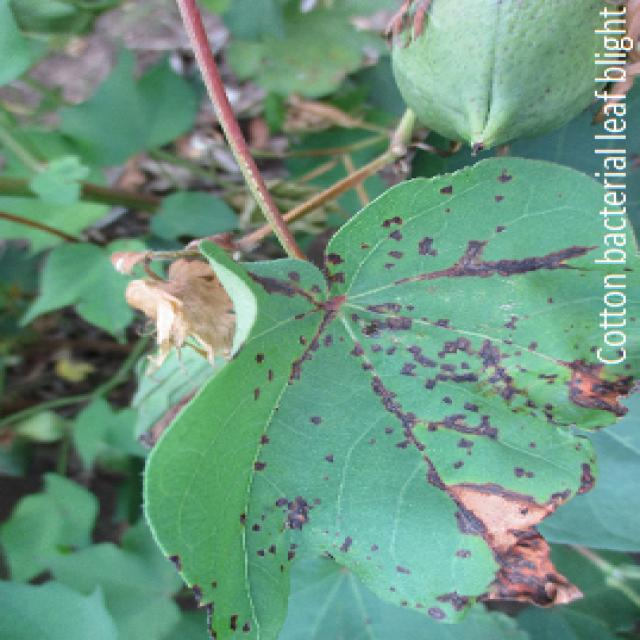Bacterial Blight: (347, 228, 640, 628)
